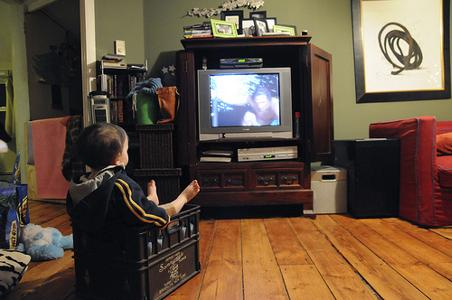person: (66, 123, 202, 233)
